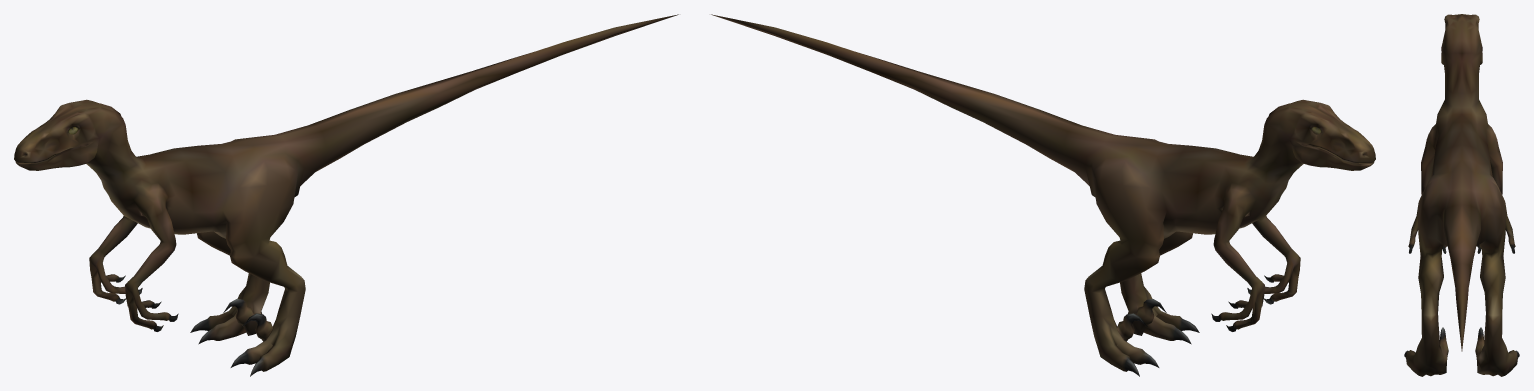
Rendered from Raptor.obj.
The picture shows the model from 3 angles, left to right: view 1: azimuth 30°, elevation 25°; view 2: azimuth 150°, elevation 25°; view 3: azimuth 270°, elevation 25°; orthographic projection. The views are drawn at different scales.
Size of the model in its own units: 211 by 85.99 by 32.97.
